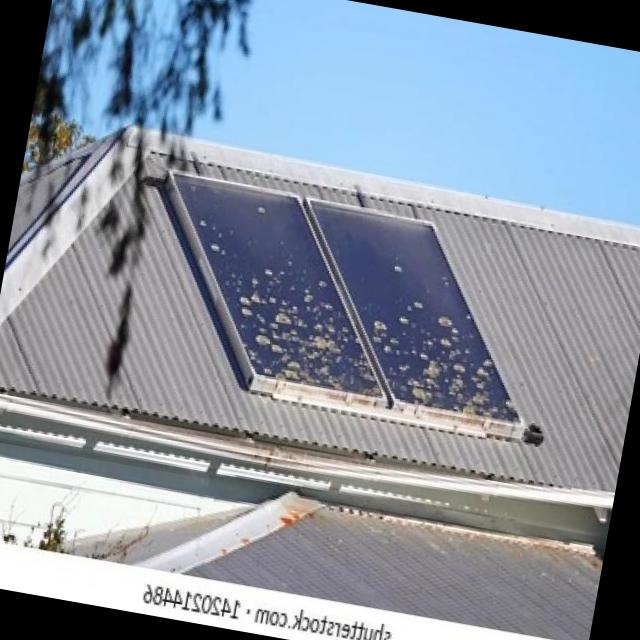faulty: (305, 205, 518, 420), (167, 179, 378, 387)
